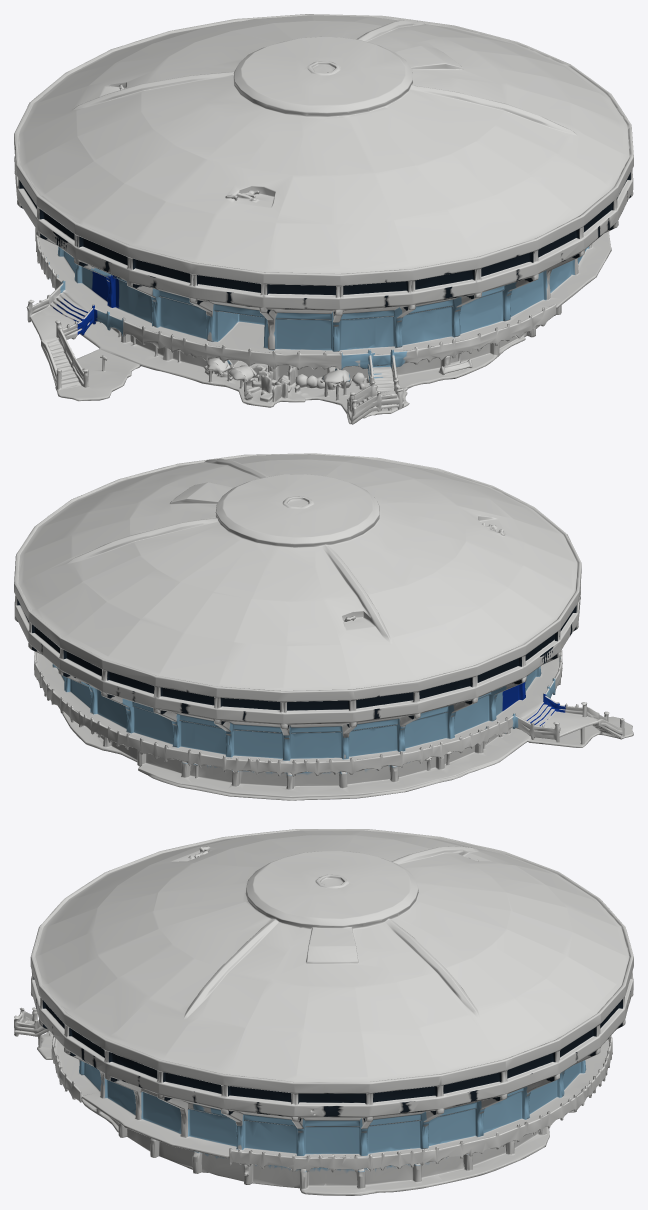
3 views of the same model, one above another, from view 1: azimuth 30°, elevation 25°; view 2: azimuth 150°, elevation 25°; view 3: azimuth 270°, elevation 25° (orthographic). The views are drawn at different scales.
Visible parts, largest first — view 1: tripo_node_0ed444f3-834a-4e0f-b73d-ee867cac392a; view 2: tripo_node_0ed444f3-834a-4e0f-b73d-ee867cac392a; view 3: tripo_node_0ed444f3-834a-4e0f-b73d-ee867cac392a.
Boxes of the visible parts, x1,y1,x2,y2 form: tripo_node_0ed444f3-834a-4e0f-b73d-ee867cac392a: (14, 14, 633, 424); tripo_node_0ed444f3-834a-4e0f-b73d-ee867cac392a: (14, 453, 633, 800); tripo_node_0ed444f3-834a-4e0f-b73d-ee867cac392a: (14, 829, 633, 1195).
Bounding box in the file's own units: 67.99 × 24.01 × 64.29.
